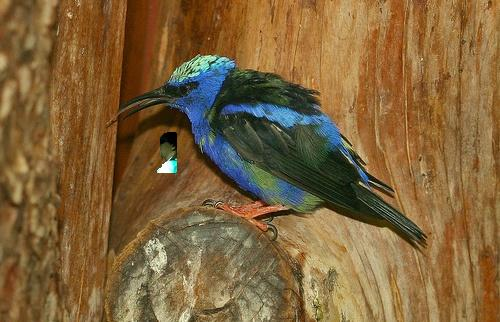tampered: (158, 133, 177, 173)
